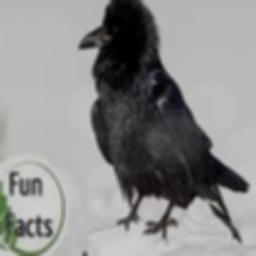Crow: (78, 0, 249, 244)
